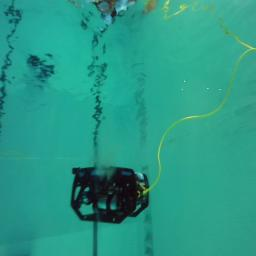Side: (70, 166, 149, 224)
